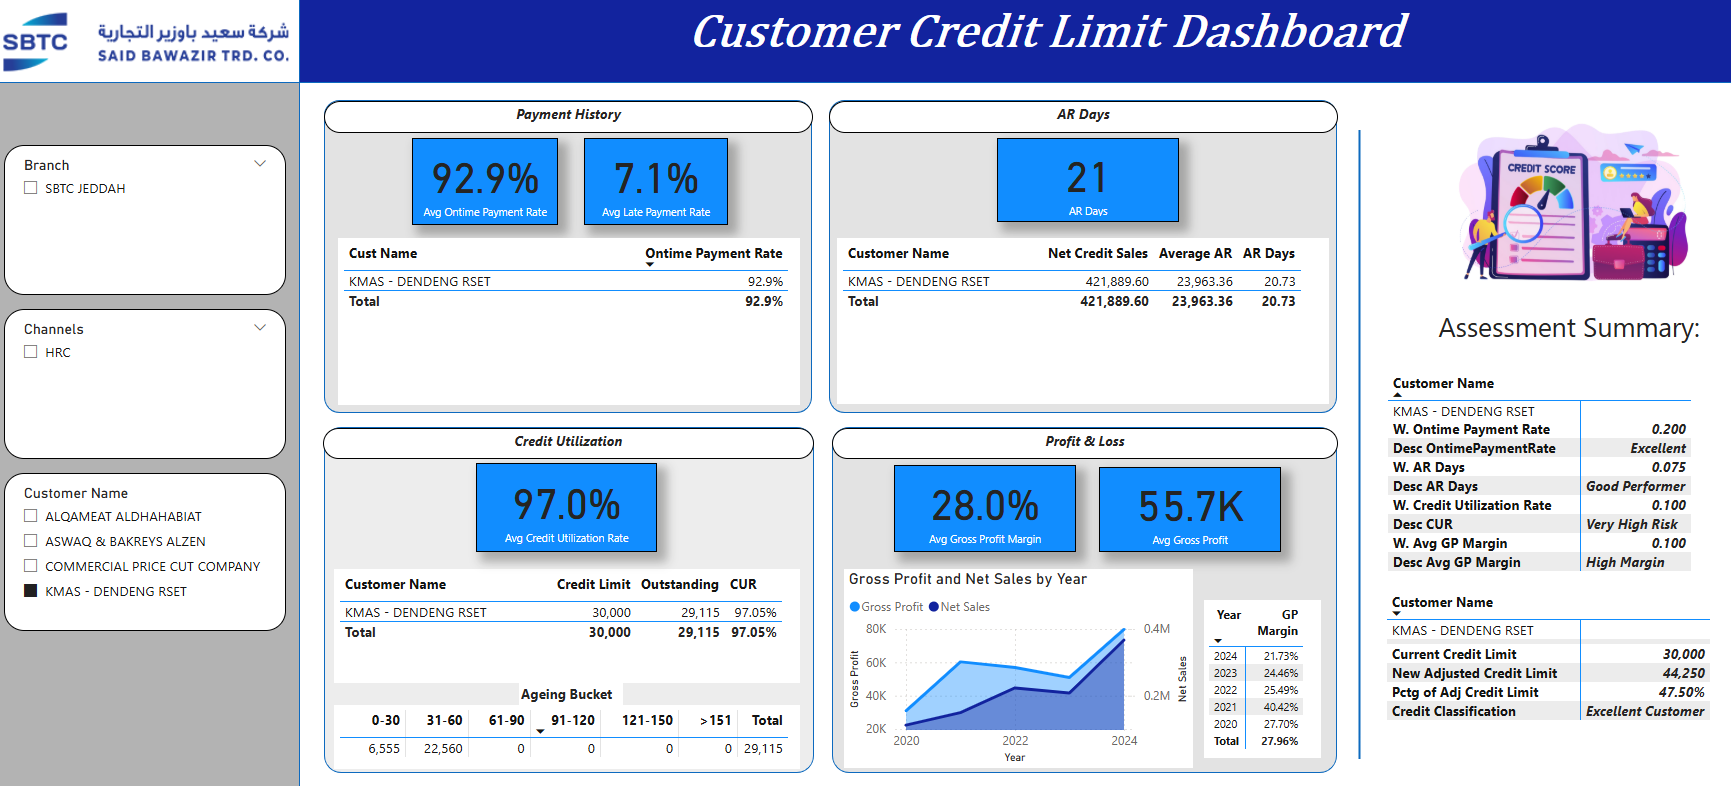

The page's visual inventory and layout, read from the dashboard file:
{"tool":"powerbi","page":{"name":"Credit Limit Dashboard","canvas":[1800,800],"ordinal":0},"visuals":[{"type":"shape","box":[330,431.7,490,346.7],"z":0},{"type":"shape","box":[838.3,431.7,505,346.7],"z":1000},{"type":"shape","box":[835,105,508.3,313.3],"z":2000},{"type":"shape","box":[330,105,488.3,313.3],"z":3000},{"type":"card","fields":{"Values":["Payment History.Ontime Payment Rate"]},"box":[346.7,143.3,145,86.7],"z":4000},{"type":"card","fields":{"Values":["Payment History.Late Payment Rate"]},"box":[506.7,143.3,143.3,86.7],"z":5000},{"type":"card","fields":{"Values":["P&L.Gross Profit"]},"box":[1199,475,129,85],"z":6000},{"type":"pivotTable","fields":{"Values":["P&L.Gross Profit Margin v2","P&L.Net Sales","P&L.Monthly Net Sales","P&L.Monthly Gross Profit"],"Rows":["P&L.Year"]},"box":[862.9,584.3,454.3,157.1],"z":7000},{"type":"tableEx","fields":{"Values":["Payment History.Cust Name","Payment History.Ontime Payment Rate","Payment History.Late Days"]},"box":[344,243,462,167],"z":8000},{"type":"card","fields":{"Values":["AR Aging 2024.Credit Utilization Rate"]},"box":[484,478,181,89],"z":10000},{"type":"textbox","box":[1436,286,286,55],"z":11000},{"type":"pivotTable","fields":{"Values":["Customer Data.Weighted Payment History","Customer Data.Desc Payment History","Customer Data.Weighted AR Days","Customer Data.Desc AR Days","Customer Data.Weighted CUR","Customer Data.Desc CUR","Customer Data.Weighted Avg GPCL Ratio","Customer Data.Desc Avg GPCL Ratio","Customer Data.Total Credit Limit Weighted"],"Rows":["Customer Data.Customer Name"]},"box":[1389,327,372,247],"z":12000},{"type":"pivotTable","fields":{"Values":["Customer Data.Credit Classification","AR Aging 2024.Credit Limit","Customer Data.Proposed Credit Limit","Customer Data.Pctg of Proposed Credit Limit"],"Rows":["Customer Data.Customer Name"]},"box":[1389,622,315,151],"z":13000},{"type":"card","fields":{"Values":["AR Turnover.AR Days"]},"box":[1003,143,182,84],"z":14000},{"type":"tableEx","fields":{"Values":["Customer Data.Customer Name","AR Turnover.Net Credit Sales","AR Turnover.Average AR Monthly","AR Turnover.AR Days"]},"box":[843,243,492,166],"z":15000},{"type":"shape","box":[0,0,306,1100],"z":16000},{"type":"shape","box":[1357.5,135,15,628.8],"z":17000},{"type":"slicer","fields":{"Values":["Customer Data.Customer Name"]},"box":[10,477.8,282.2,273.3],"z":18000},{"type":"slicer","fields":{"Values":["Customer Data.Channels"]},"box":[10,314,282,150],"z":19000},{"type":"slicer","fields":{"Values":["Customer Data.Branch"]},"box":[10,150,282,150],"z":20000},{"type":"shape","box":[0,0,1800,88],"z":21000},{"type":"textbox","box":[310,6,1490,62],"z":22000},{"type":"shape","box":[0,0,306,88],"z":23000},{"type":"image","box":[0,2,306,82],"z":24000},{"type":"image","box":[1358,106,442,208],"z":25000},{"type":"textbox","box":[837.5,432.5,506.2,31.2],"z":26000},{"type":"textbox","box":[835,106,509,32],"z":27000},{"type":"textbox","box":[328.8,432.5,491.2,31.2],"z":28000},{"type":"textbox","box":[330,106.2,488.8,31.2],"z":29000},{"type":"tableEx","fields":{"Values":["AR Aging 2024.0-30","AR Aging 2024.31-45","AR Aging 2024.45-60","AR Aging 2024.61-90","AR Aging 2024.91-120","AR Aging [phone redacted]","AR Aging 2024.151","AR Aging 2024.Total"]},"box":[340,710,466.4,63.6],"z":30000},{"type":"textbox","box":[524.5,688.2,104.5,21.8],"z":31000},{"type":"card","fields":{"Values":["Customer Data.GPCL Ratio"]},"box":[852.5,472.5,167.5,87.5],"z":32000},{"type":"card","fields":{"Values":["Payment History.Late Days"]},"box":[663,143,144,87],"z":33000},{"type":"card","fields":{"Values":["P&L.Monthly Gross Profit"]},"box":[1036.2,473.8,148.8,85],"z":34000},{"type":"tableEx","fields":{"Values":["Customer Data.Customer Name","AR Aging 2024.Credit Limit","AR Aging 2024.Total","AR Aging 2024.CUR 2024"]},"box":[341.2,573.8,466.2,115],"z":35000}]}

Visuals, with their boxes in screenshot pixels (x1, y1, x2, y2), scaled from the page's 1800x800 canvas onto the 1731x786 screenshot:
shape: bbox(317, 424, 789, 765)
shape: bbox(806, 424, 1292, 765)
shape: bbox(803, 103, 1292, 411)
shape: bbox(317, 103, 787, 411)
card - Payment History.Ontime Payment Rate: bbox(333, 141, 473, 226)
card - Payment History.Late Payment Rate: bbox(487, 141, 625, 226)
card - P&L.Gross Profit: bbox(1153, 467, 1277, 550)
pivotTable - P&L.Gross Profit Margin v2 x P&L.Net Sales: bbox(830, 574, 1267, 728)
tableEx - Payment History.Cust Name x Payment History.Ontime Payment Rate: bbox(331, 239, 775, 403)
card - AR Aging 2024.Credit Utilization Rate: bbox(465, 470, 640, 557)
textbox: bbox(1381, 281, 1656, 335)
pivotTable - Customer Data.Weighted Payment History x Customer Data.Desc Payment History: bbox(1336, 321, 1693, 564)
pivotTable - Customer Data.Credit Classification x AR Aging 2024.Credit Limit: bbox(1336, 611, 1639, 759)
card - AR Turnover.AR Days: bbox(965, 140, 1140, 223)
tableEx - Customer Data.Customer Name x AR Turnover.Net Credit Sales: bbox(811, 239, 1284, 402)
shape: bbox(0, 0, 294, 785)
shape: bbox(1305, 133, 1320, 750)
slicer - Customer Data.Customer Name: bbox(10, 469, 281, 738)
slicer - Customer Data.Channels: bbox(10, 309, 281, 456)
slicer - Customer Data.Branch: bbox(10, 147, 281, 295)
shape: bbox(0, 0, 1730, 86)
textbox: bbox(298, 6, 1730, 67)
shape: bbox(0, 0, 294, 86)
image: bbox(0, 2, 294, 83)
image: bbox(1306, 104, 1730, 309)
textbox: bbox(805, 425, 1292, 456)
textbox: bbox(803, 104, 1292, 136)
textbox: bbox(316, 425, 789, 456)
textbox: bbox(317, 104, 787, 135)
tableEx - AR Aging 2024.0-30 x AR Aging 2024.31-45: bbox(327, 698, 775, 760)
textbox: bbox(504, 676, 605, 698)
card - Customer Data.GPCL Ratio: bbox(820, 464, 981, 550)
card - Payment History.Late Days: bbox(638, 140, 776, 226)
card - P&L.Monthly Gross Profit: bbox(996, 466, 1140, 549)
tableEx - Customer Data.Customer Name x AR Aging 2024.Credit Limit: bbox(328, 564, 776, 677)
